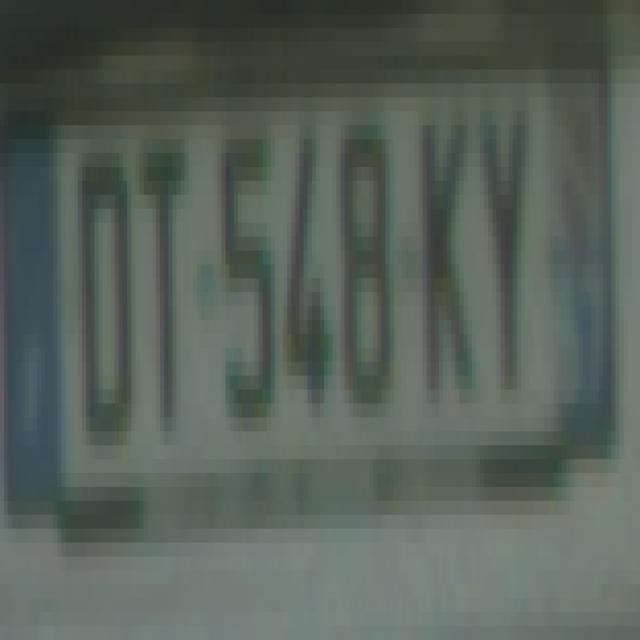Autre: (3, 62, 608, 501)
